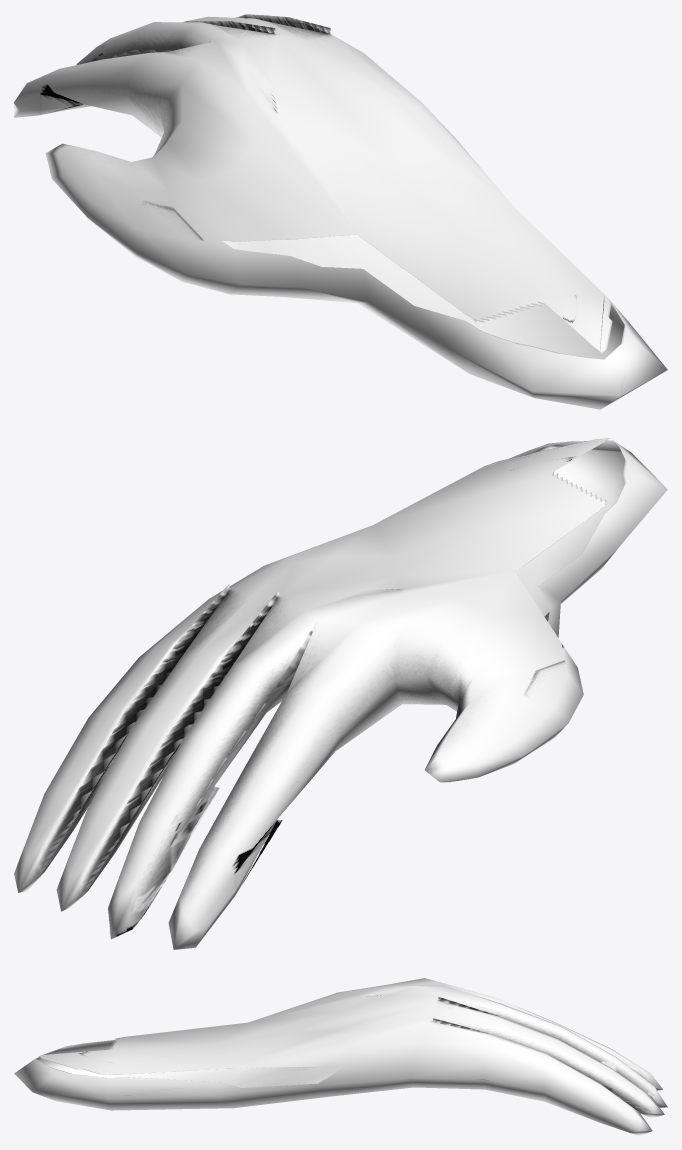
Rendered from hand.obj.
3 renders of one model, top to bottom at view 1: azimuth 30°, elevation 25°; view 2: azimuth 150°, elevation 25°; view 3: azimuth 270°, elevation 25°, orthographic. The views are drawn at different scales.
Visible parts, largest first — view 1: Plane01; view 2: Plane01; view 3: Plane01.
Part boxes in pixels (<box>): Plane01: <box>14,14,667,409</box>; Plane01: <box>14,438,667,949</box>; Plane01: <box>14,978,667,1135</box>.
Bounding box in the file's own units: 56.17 × 33.08 × 164.
Materials: 1 (1 with a texture image).
